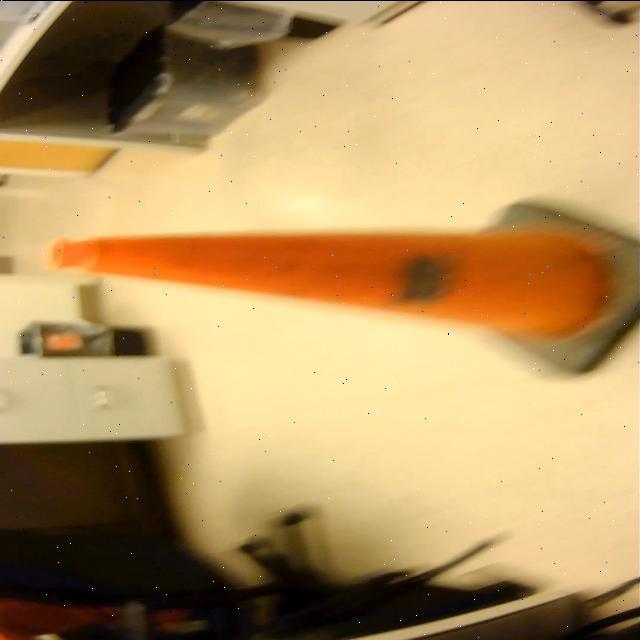traffic cone: (26, 197, 640, 385)
